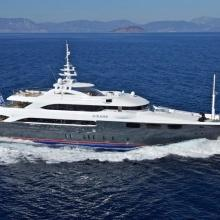yacht: (1, 56, 220, 149)
